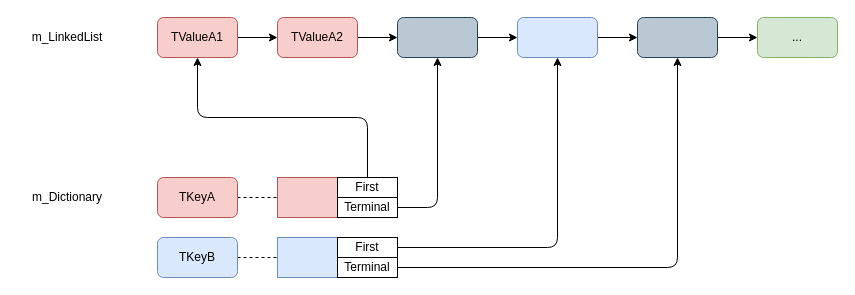
Image size: 855x295. Some labels were removed from this diagram. The centre of each missing label's shape, as x and y in pixels:
"RangeA" goes at [307,197].
"RangeB" goes at [307,257].
"TerminalA" goes at [437,37].
"TerminalB" goes at [677,37].
"TValueB1" goes at [557,37].
